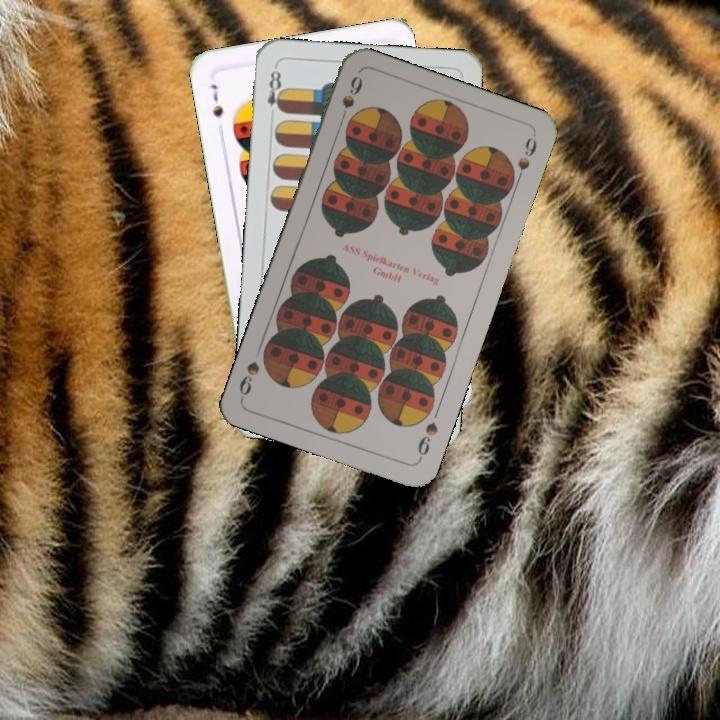E8: (263, 63, 287, 122)
S7: (206, 80, 226, 120)
S9: (335, 72, 365, 130), (413, 418, 441, 464)
